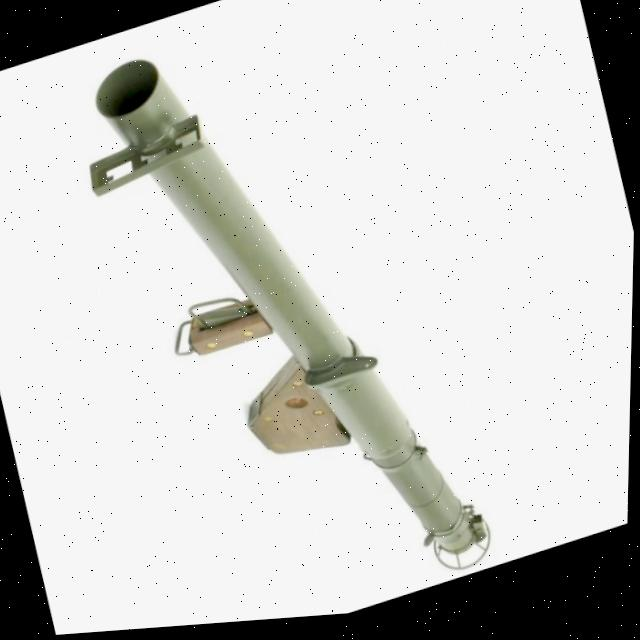rocket: (45, 0, 532, 637)
